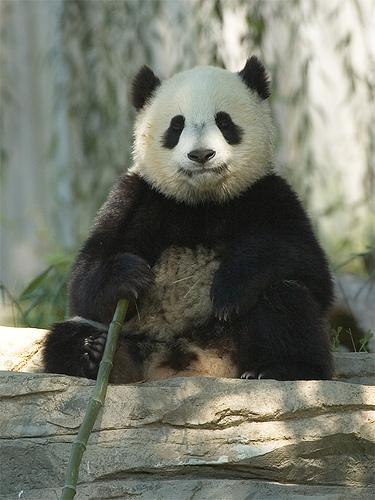panda: (44, 57, 332, 383)
